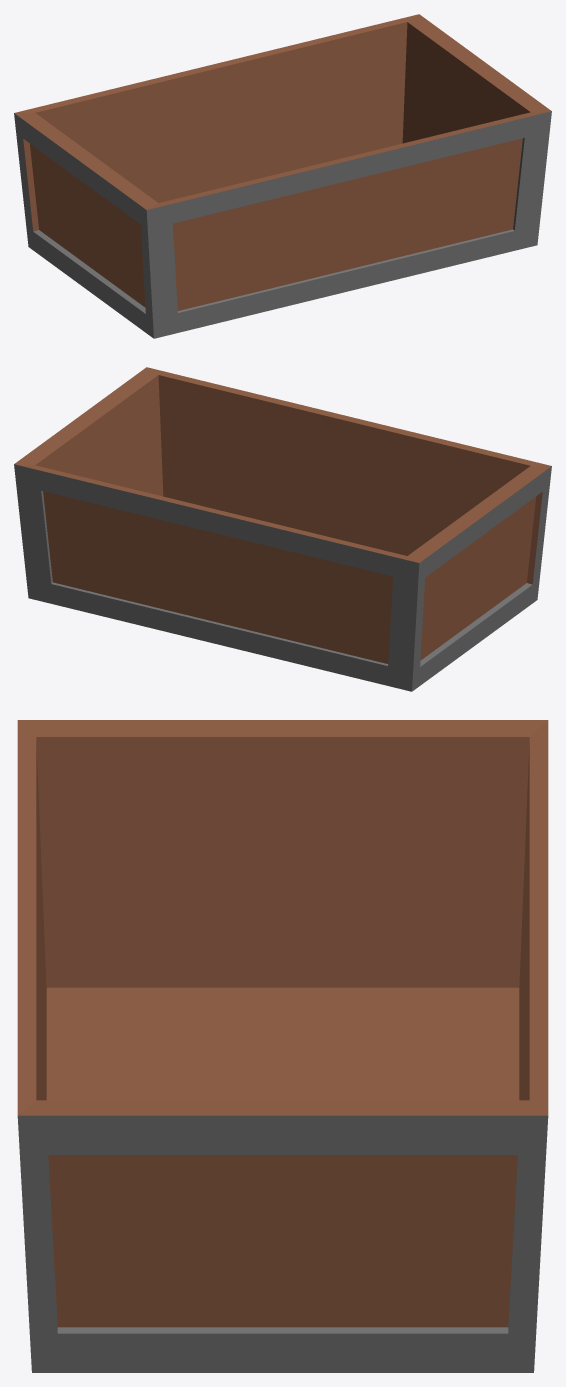
The model's file is TreasureChest_Bottom.glb.
The picture shows the model from 3 angles, top to bottom: view 1: azimuth 30°, elevation 25°; view 2: azimuth 150°, elevation 25°; view 3: azimuth 270°, elevation 25°; orthographic projection. The views are drawn at different scales.
Parts seen in each view (by area): view 1: Plane.001; view 2: Plane.001; view 3: Plane.001.
Boxes of the visible parts, x1,y1,x2,y2 form: Plane.001: (14, 14, 551, 338); Plane.001: (14, 367, 551, 691); Plane.001: (17, 720, 548, 1372).
Size of the model in its own units: 5.11 by 1.61 by 2.9.
